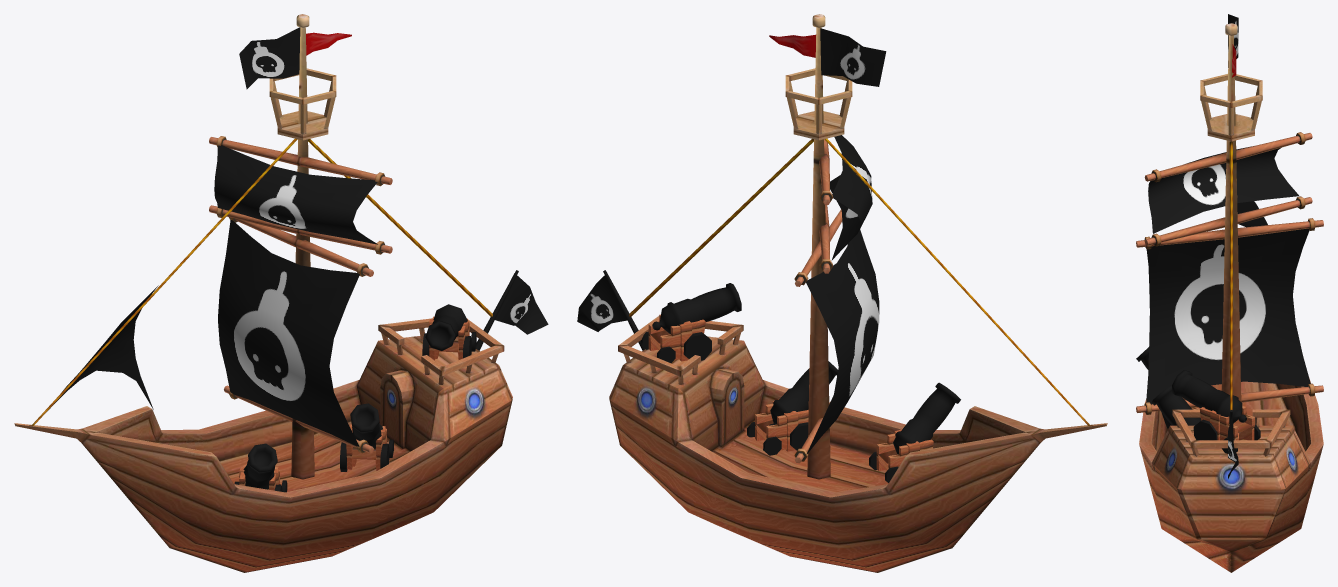
The model's file is ship.glb.
The picture shows the model from 3 angles, left to right: view 1: azimuth 30°, elevation 25°; view 2: azimuth 150°, elevation 25°; view 3: azimuth 270°, elevation 25°; orthographic projection. The views are drawn at different scales.
Parts seen in each view (by area): view 1: main, flagAn, canons.003, flags, flagSn, main.003; view 2: main, flagAn, canons.003, main.003, flagSn, flags; view 3: main, flagAn, canons.003, main.003, flags.
Boxes of the visible parts, bbox=[...] form: main: bbox=[14, 14, 512, 572]; flagAn: bbox=[214, 145, 377, 446]; canons.003: bbox=[234, 304, 476, 492]; flags: bbox=[47, 270, 548, 411]; flagSn: bbox=[239, 27, 300, 89]; main.003: bbox=[238, 316, 469, 490]; main: bbox=[609, 14, 1107, 572]; flagAn: bbox=[806, 135, 879, 454]; canons.003: bbox=[640, 283, 960, 482]; main.003: bbox=[648, 314, 933, 470]; flagSn: bbox=[820, 28, 886, 86]; flags: bbox=[577, 270, 645, 350]; main: bbox=[1136, 23, 1323, 572]; flagAn: bbox=[1146, 146, 1310, 404]; canons.003: bbox=[1136, 347, 1260, 453]; main.003: bbox=[1183, 398, 1254, 440]; flags: bbox=[1228, 201, 1267, 478].
Size of the model in its own units: 12.55 by 12.36 by 4.1.
Materials: 3 (2 with a texture image).
